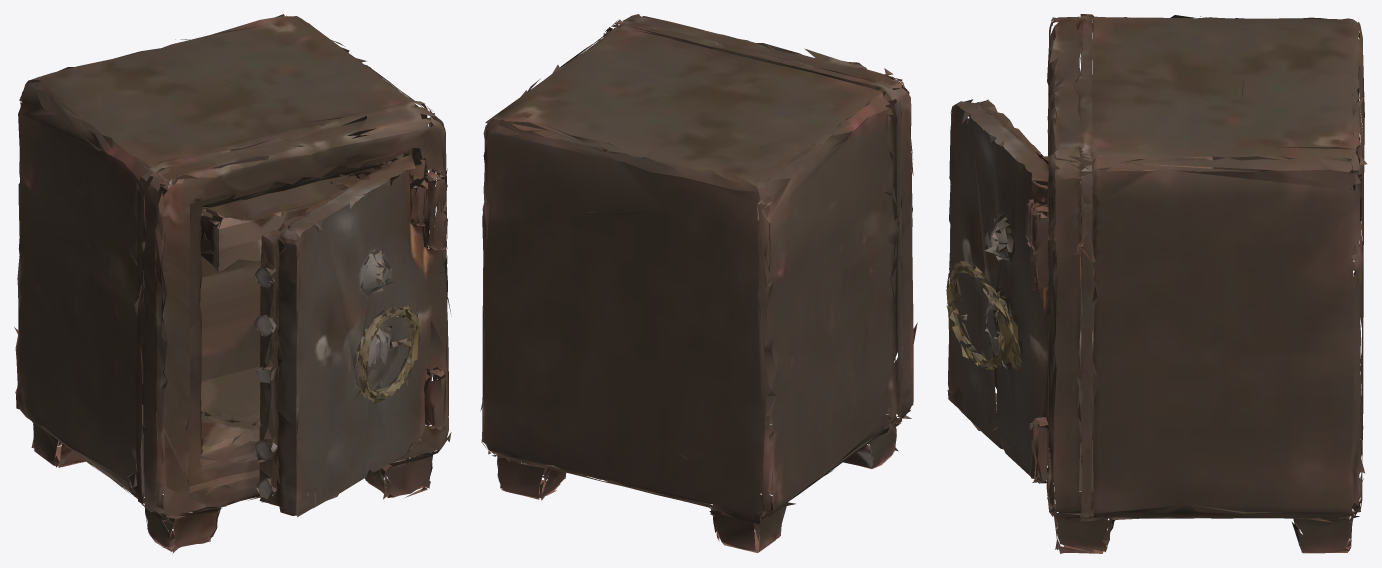
Rendered from safe_fireproof_open.glb.
3 renders of one model, left to right at view 1: azimuth 30°, elevation 25°; view 2: azimuth 150°, elevation 25°; view 3: azimuth 270°, elevation 25°, orthographic. The views are drawn at different scales.
Visible parts, largest first — view 1: safe_fireproof_open; view 2: safe_fireproof_open; view 3: safe_fireproof_open.
Part boxes in pixels (left/top/right/bottom): safe_fireproof_open: left=14, top=14, right=451, bottom=553; safe_fireproof_open: left=480, top=14, right=917, bottom=552; safe_fireproof_open: left=946, top=14, right=1366, bottom=553.
Bounding box in the file's own units: 0.86 × 1.04 × 0.9762.
Materials: 1 (1 with a texture image).
